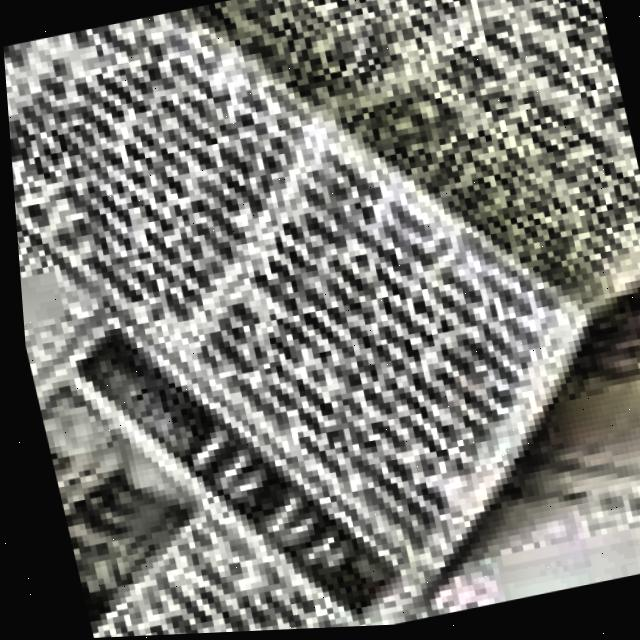paper: (3, 0, 640, 638), (410, 299, 640, 623)
